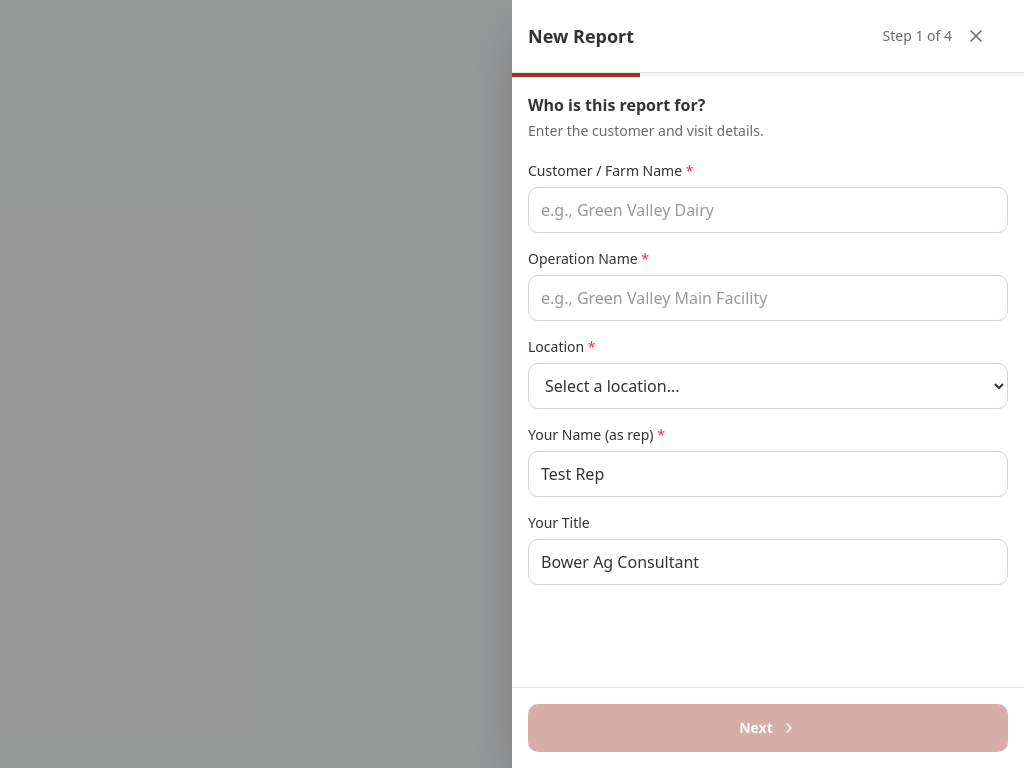
Test: NewReportForm › step 2 shows only products sellable at selected location
Fill step 1 to get to step 2
Type "Test Farm" into the field with placeholder "e.g., Green Valley Dairy" at coordinates (768, 210), box [528,187,1008,233]
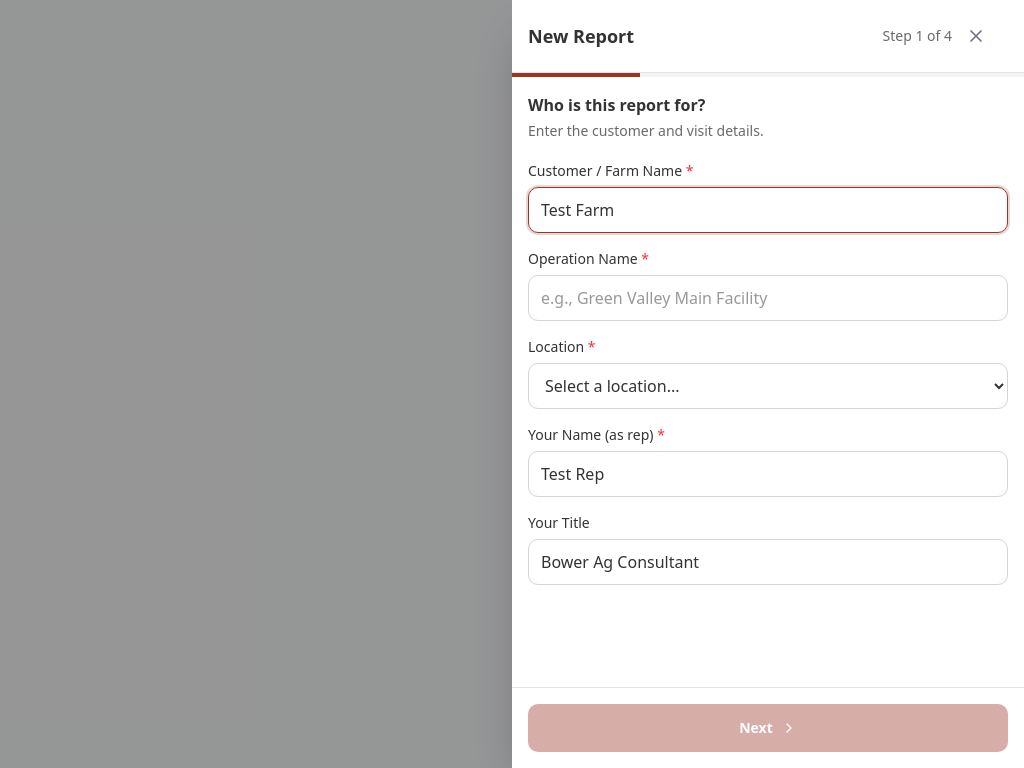
Type "Test Op" into the field with placeholder "e.g., Green Valley Main Facility" at coordinates (768, 298), box [528,275,1008,321]
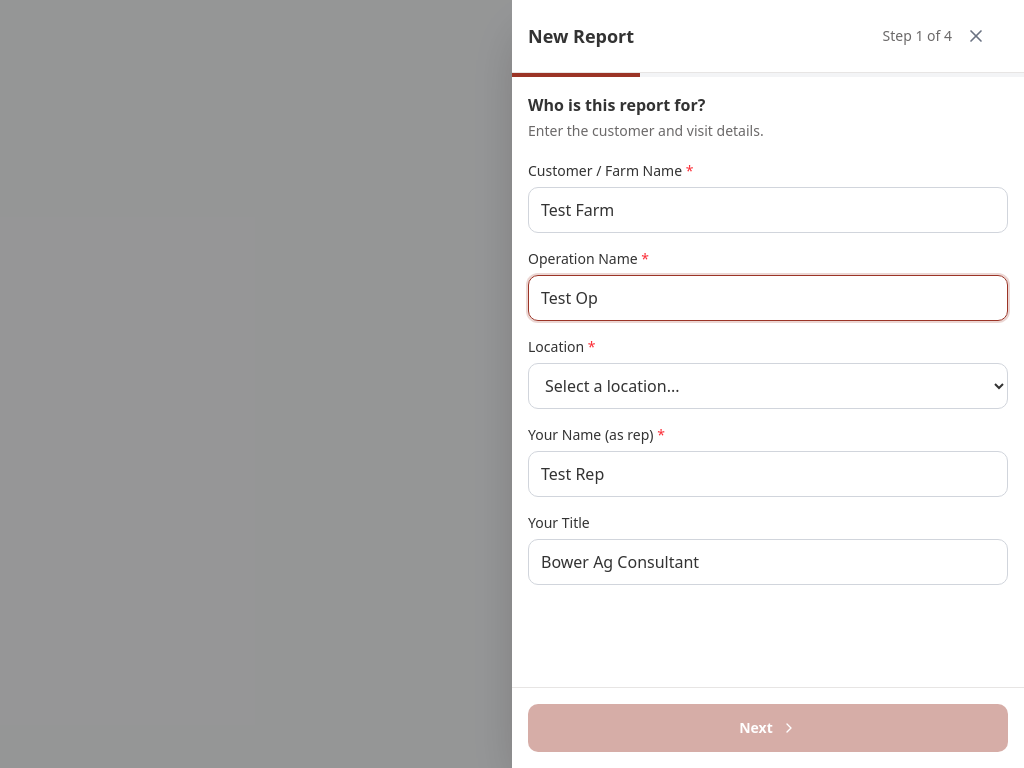
Select "Evans CO (EVANS)" in the dropdown with test id "location-select" at coordinates (768, 386), box [528,363,1008,409]
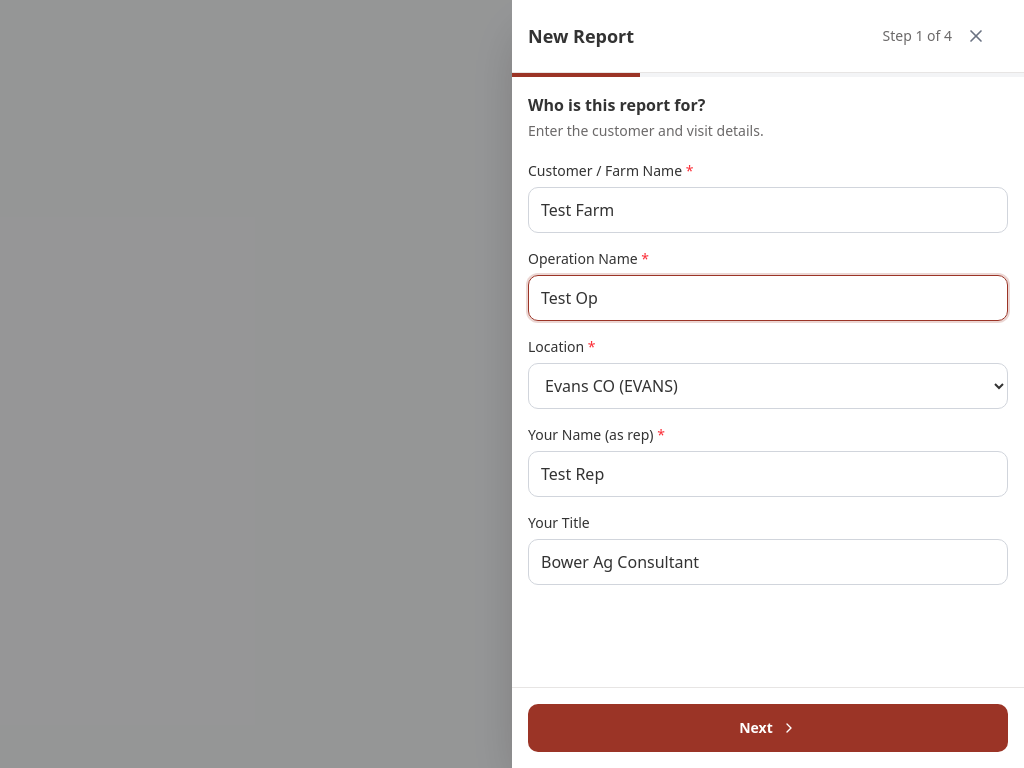
Now the button "Next" is enabled
Click Next
Click the button "Next" at coordinates (768, 728), box [528,704,1008,752]
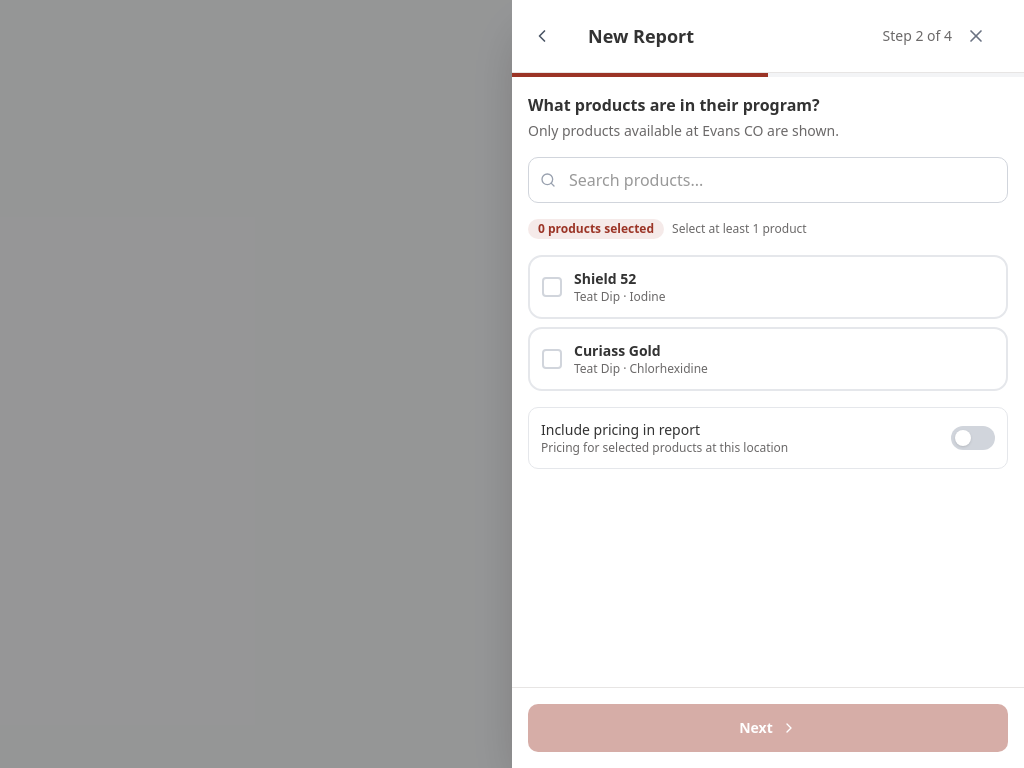
Now the text "Shield 52" is shown, box [574,269,636,288]
Now the text "Curiass Gold" is shown, box [574,341,661,360]
